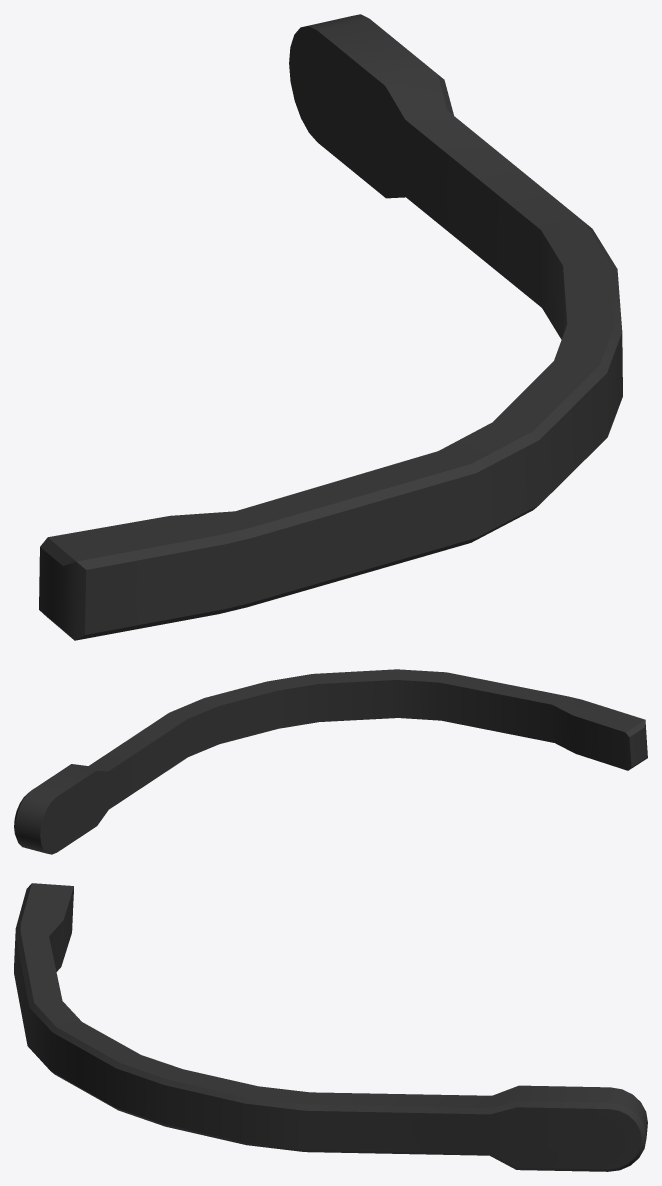
The model's file is Headset_Mic_3.obj.
The picture shows the model from 3 angles, top to bottom: view 1: azimuth 30°, elevation 25°; view 2: azimuth 150°, elevation 25°; view 3: azimuth 270°, elevation 25°; orthographic projection. The views are drawn at different scales.
Parts seen in each view (by area): view 1: Headset_Mic_3; view 2: Headset_Mic_3; view 3: Headset_Mic_3.
Part boxes in pixels (box(x1,y1,x2,y2)): Headset_Mic_3: box(39, 14, 622, 640); Headset_Mic_3: box(14, 669, 647, 854); Headset_Mic_3: box(14, 883, 647, 1171).
Bounding box in the file's own units: 0.1796 × 0.0247 × 0.2053.
